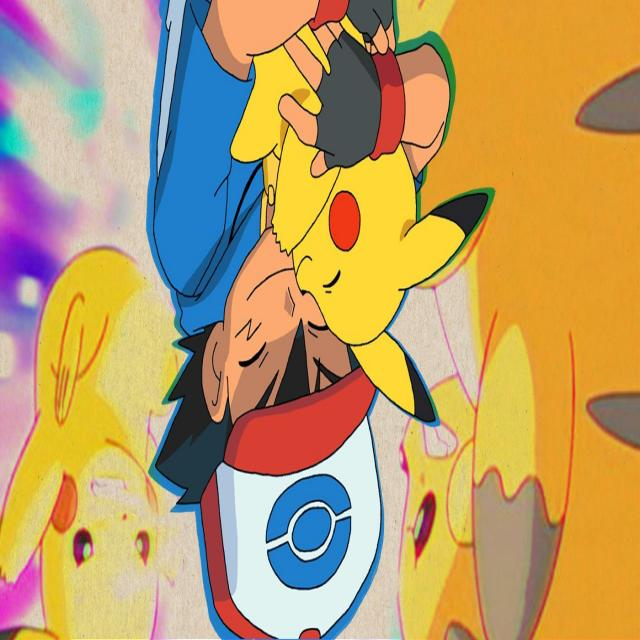Pikachu: (210, 0, 478, 411)
